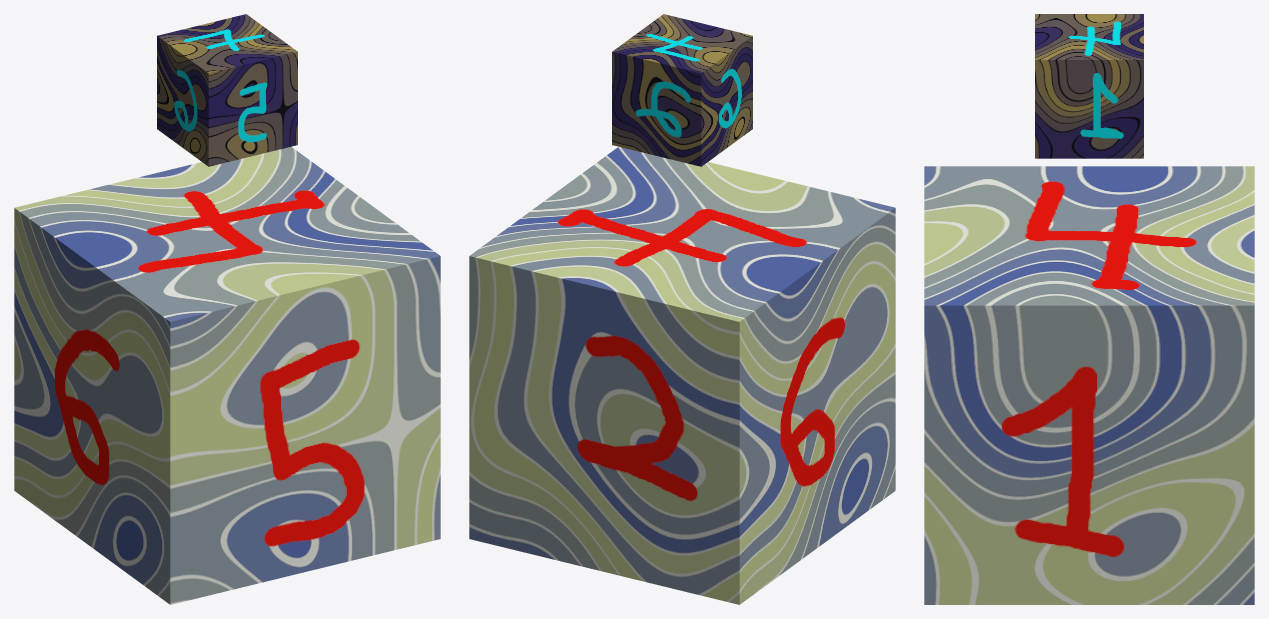
File: two_die.glb
3 renders of one model, left to right at view 1: azimuth 30°, elevation 25°; view 2: azimuth 150°, elevation 25°; view 3: azimuth 270°, elevation 25°, orthographic. The views are drawn at different scales.
Visible parts, largest first — view 1: Object_2, Object_2.001; view 2: Object_2, Object_2.001; view 3: Object_2, Object_2.001.
Part boxes in pixels (<box>): Object_2: <box>14,146,440,604</box>; Object_2.001: <box>157,14,297,166</box>; Object_2: <box>469,146,895,604</box>; Object_2.001: <box>612,14,752,166</box>; Object_2: <box>924,166,1254,604</box>; Object_2.001: <box>1035,14,1143,158</box>.
Bounding box in the file's own units: 2 × 3.33 × 2.
Materials: 2 (2 with a texture image).
